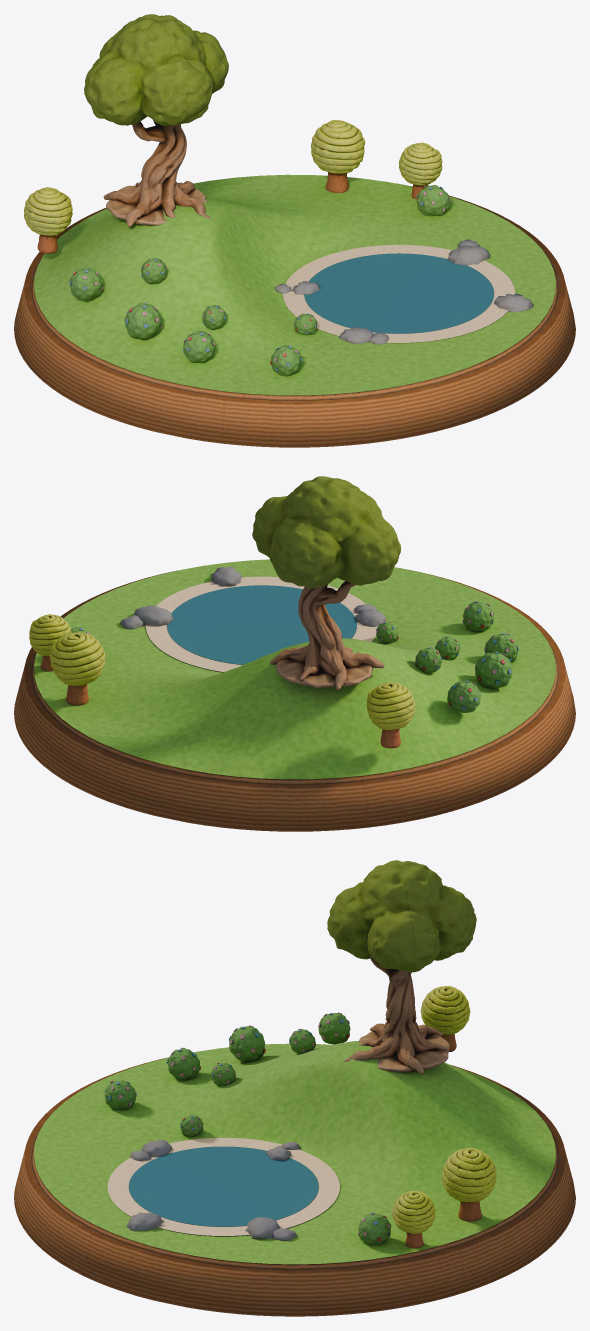
File: lake.glb
3 views of the same model, one above another, from view 1: azimuth 30°, elevation 25°; view 2: azimuth 150°, elevation 25°; view 3: azimuth 270°, elevation 25° (orthographic).
Parts seen in each view (by area): view 1: grass, base, bigtree_11, pondbed, plaza, tree_20, tree_22, tree_21, bush_12, bush_15, bush_16, bush_13 (+3 smaller); view 2: grass, base, bigtree_11, pondbed, plaza, tree_20, tree_22, tree_21, bush_12, bush_15, bush_14, bush_13 (+3 smaller); view 3: grass, base, bigtree_11, pondbed, plaza, tree_20, tree_22, tree_21, bush_12, bush_16, bush_15, bush_13 (+2 smaller).
Boxes of the visible parts, left/top/right/bottom form: grass: left=34, top=174, right=555, bottom=395; base: left=14, top=183, right=575, bottom=447; bigtree_11: left=84, top=14, right=228, bottom=226; pondbed: left=304, top=253, right=493, bottom=333; plaza: left=283, top=244, right=515, bottom=342; tree_20: left=311, top=120, right=365, bottom=192; tree_22: left=24, top=187, right=72, bottom=253; tree_21: left=399, top=142, right=442, bottom=199; bush_12: left=124, top=303, right=162, bottom=339; bush_15: left=69, top=267, right=102, bottom=299; bush_16: left=416, top=185, right=450, bottom=216; bush_13: left=183, top=331, right=215, bottom=362; grass: left=34, top=559, right=555, bottom=779; base: left=14, top=569, right=575, bottom=831; bigtree_11: left=252, top=476, right=400, bottom=690; pondbed: left=167, top=585, right=356, bottom=664; plaza: left=145, top=576, right=377, bottom=672; tree_20: left=49, top=632, right=105, bottom=705; tree_22: left=366, top=682, right=415, bottom=748; tree_21: left=29, top=614, right=71, bottom=671; bush_12: left=474, top=652, right=512, bottom=688; bush_15: left=447, top=680, right=480, bottom=712; bush_14: left=462, top=601, right=494, bottom=631; bush_13: left=484, top=633, right=518, bottom=662; grass: left=34, top=1041, right=555, bottom=1264; base: left=14, top=1057, right=575, bottom=1316; bigtree_11: left=327, top=860, right=476, bottom=1073; pondbed: left=128, top=1146, right=318, bottom=1226; plaza: left=107, top=1137, right=339, bottom=1235; tree_20: left=441, top=1147, right=496, bottom=1221; tree_22: left=420, top=986, right=470, bottom=1051; tree_21: left=392, top=1191, right=435, bottom=1247; bush_12: left=229, top=1025, right=265, bottom=1061; bush_16: left=358, top=1212, right=391, bottom=1245; bush_15: left=318, top=1012, right=350, bottom=1044; bush_13: left=166, top=1047, right=200, bottom=1079.
Size of the model in its own units: 7.1 by 4.05 by 7.1.
Materials: 23 (23 with a texture image).
